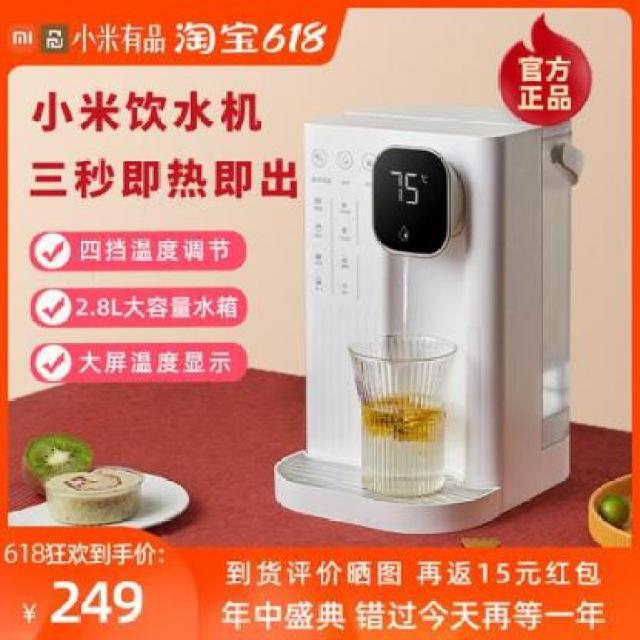cooler: (274, 106, 579, 539)
